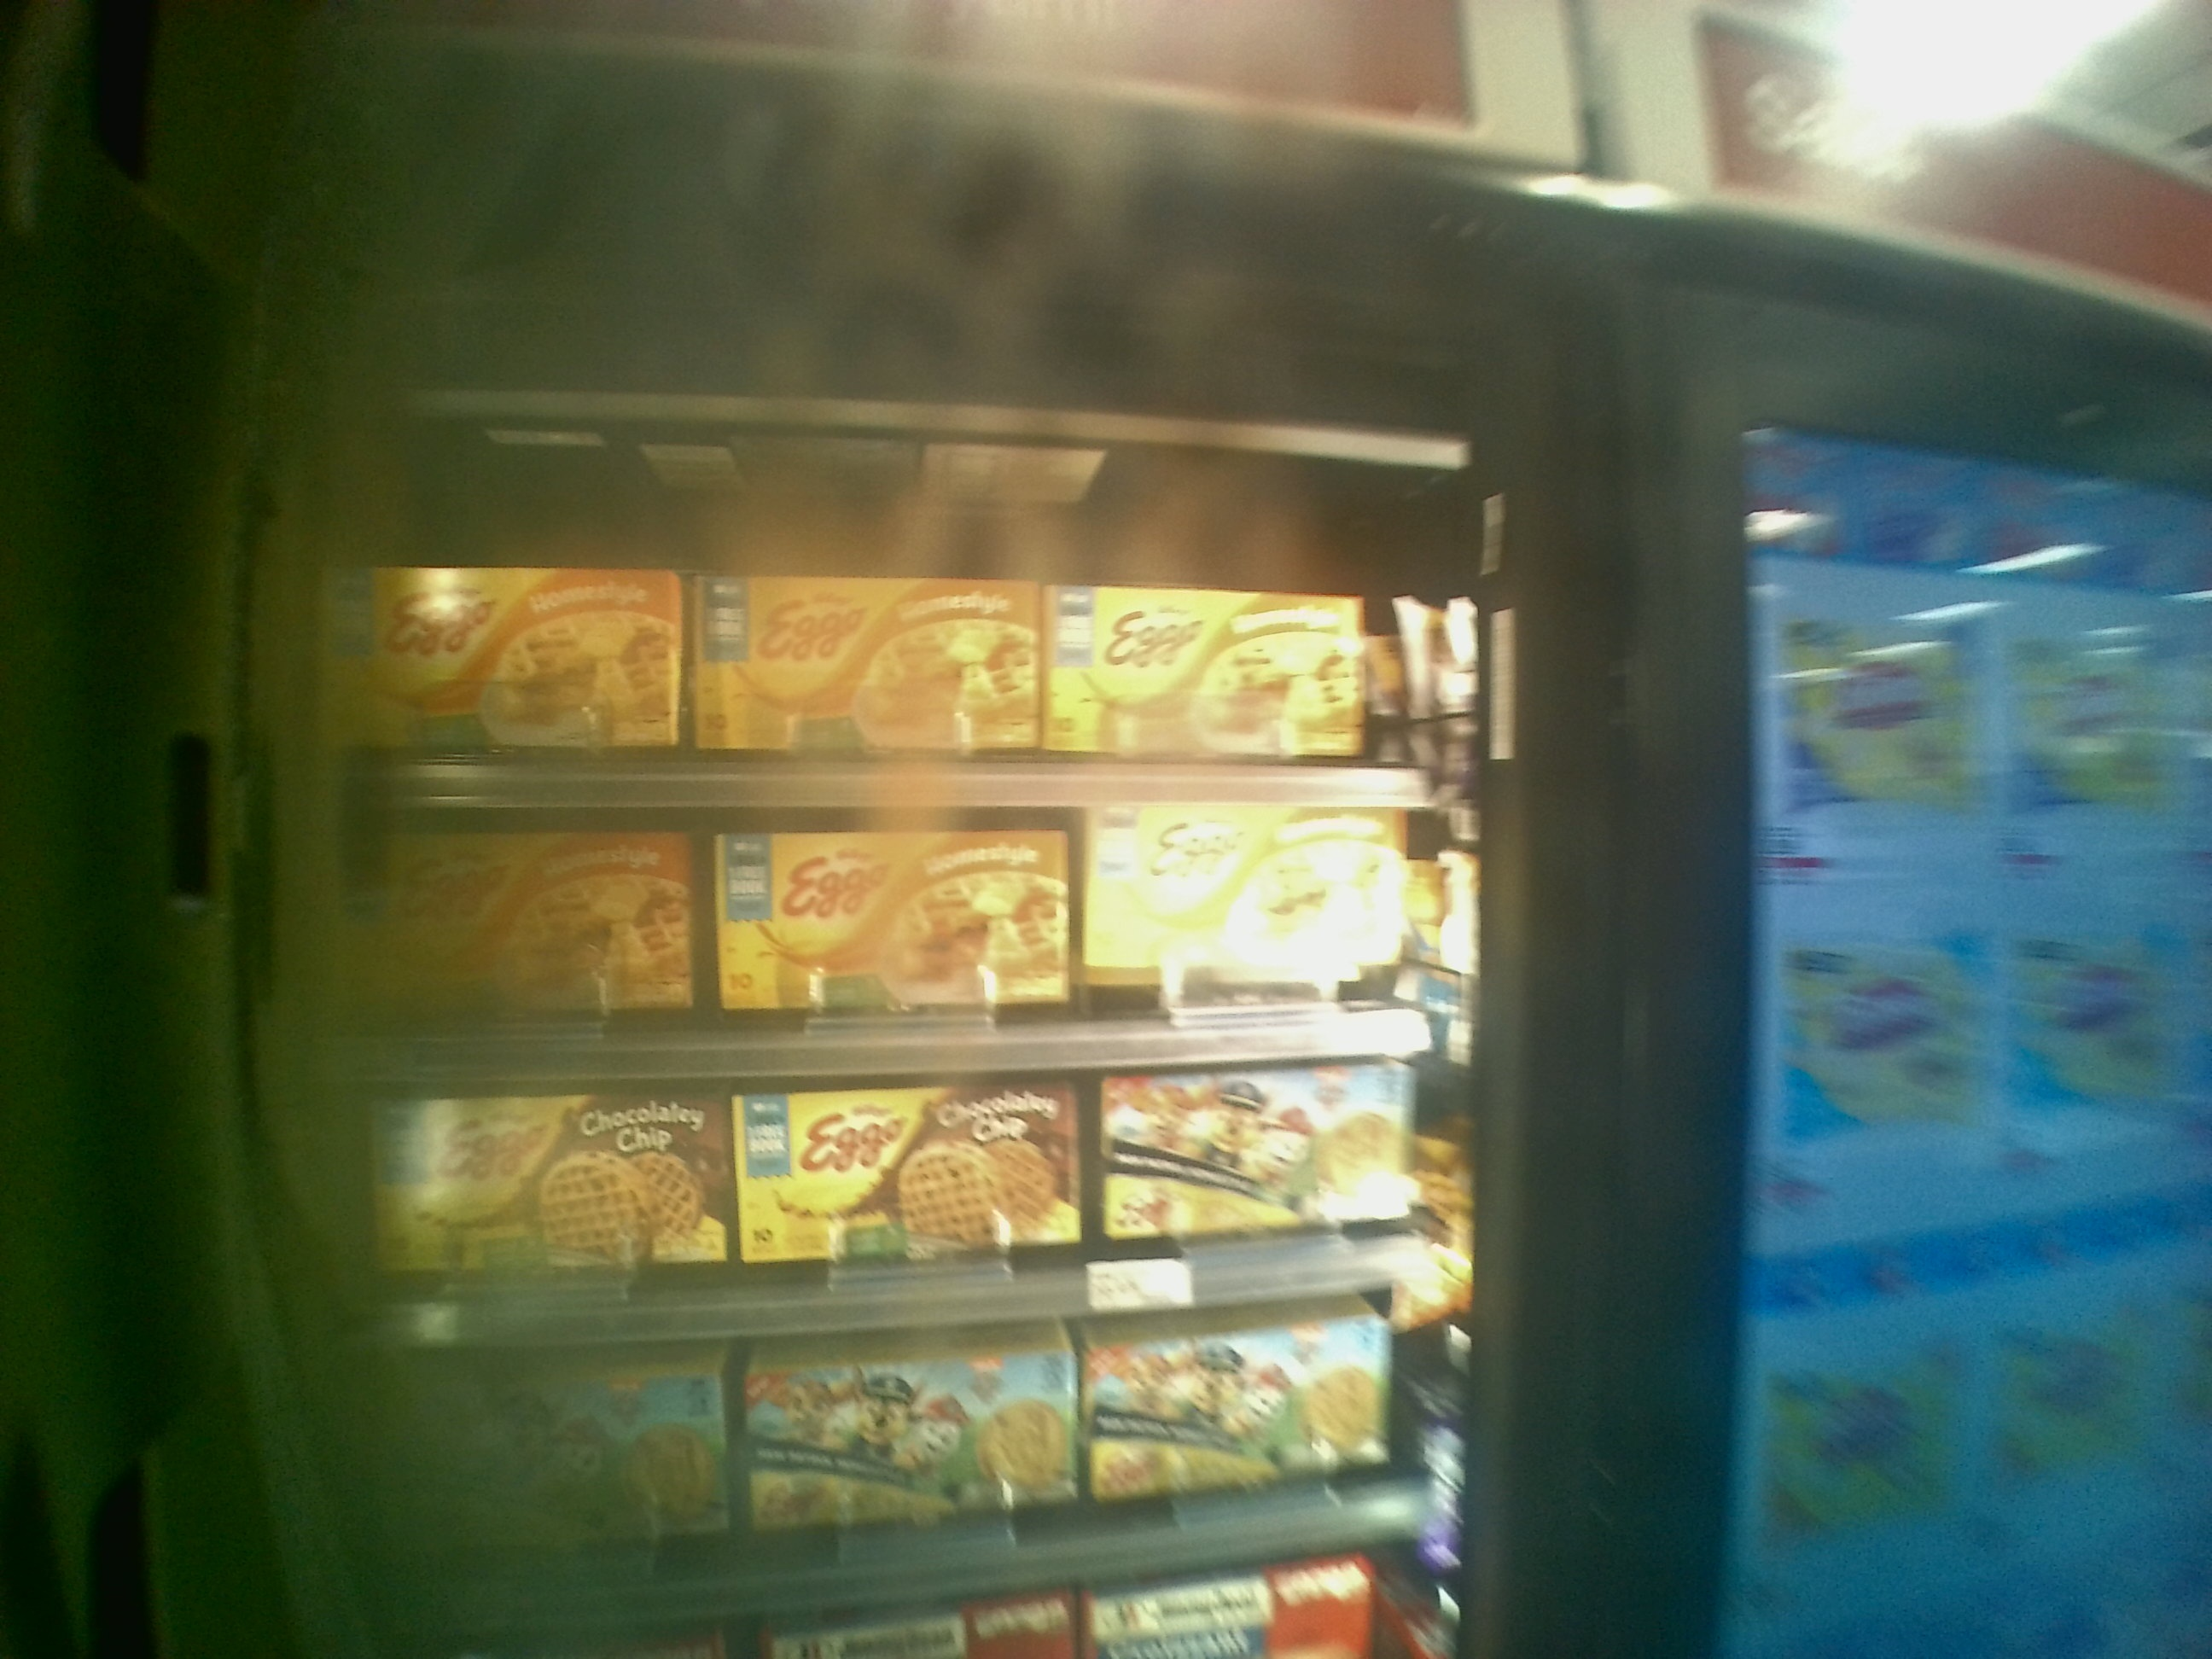shelf: (317, 390, 1447, 802), (308, 1053, 1458, 1373), (315, 777, 1465, 1080)
